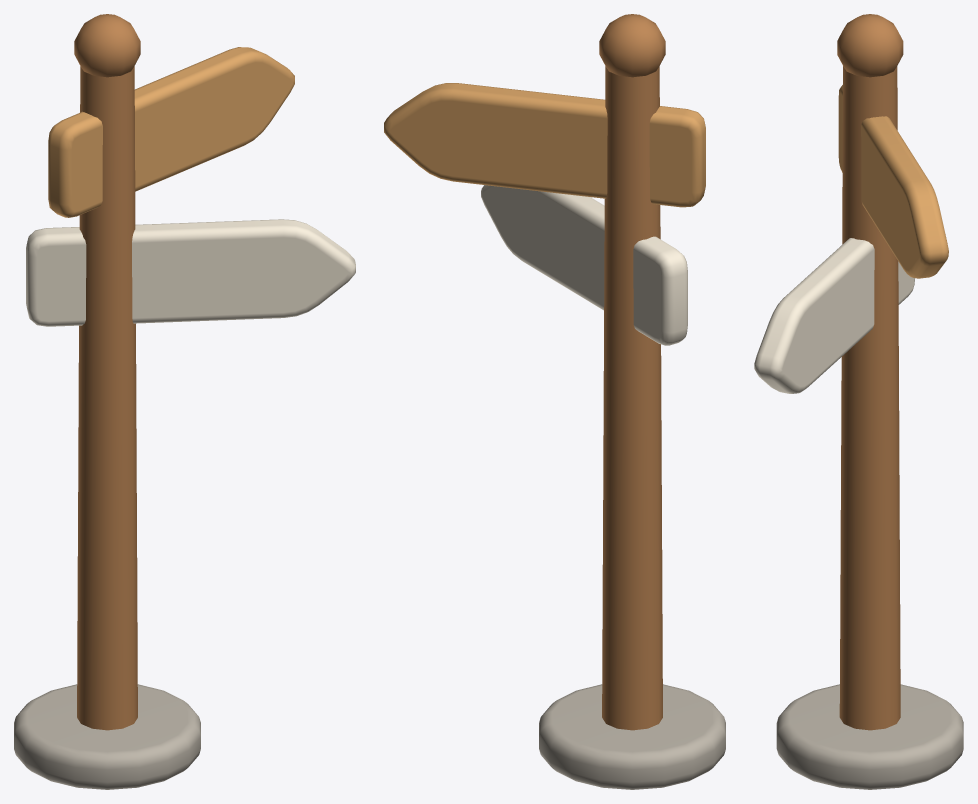
The model's file is wooden_signpost.glb.
3 views of the same model, side by side, from view 1: azimuth 30°, elevation 25°; view 2: azimuth 150°, elevation 25°; view 3: azimuth 270°, elevation 25° (orthographic).
Visible parts, largest first — view 1: wooden_signpost_mesh; view 2: wooden_signpost_mesh; view 3: wooden_signpost_mesh.
Boxes of the visible parts, x1=… form: wooden_signpost_mesh: x1=14, y1=14, x2=355, y2=789; wooden_signpost_mesh: x1=384, y1=14, x2=725, y2=789; wooden_signpost_mesh: x1=754, y1=14, x2=963, y2=789.
Bounding box in the file's own units: 0.5066 × 1.2 × 0.309.
